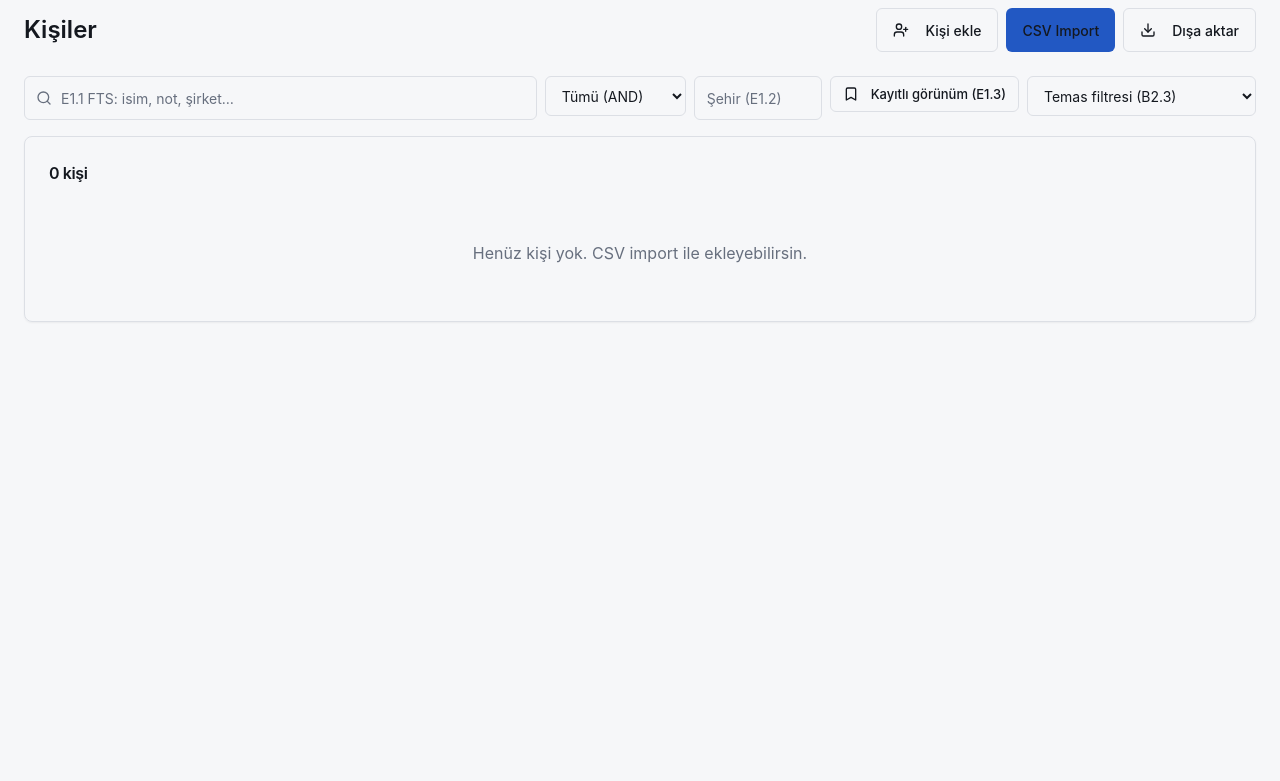
Test: Contacts A1 create form › validates email and phone on create
Expected: the heading "Kişiler" is shown, [24,14,97,46]
Click the button "Kişi ekle" at (937, 30), box [876,8,998,52]
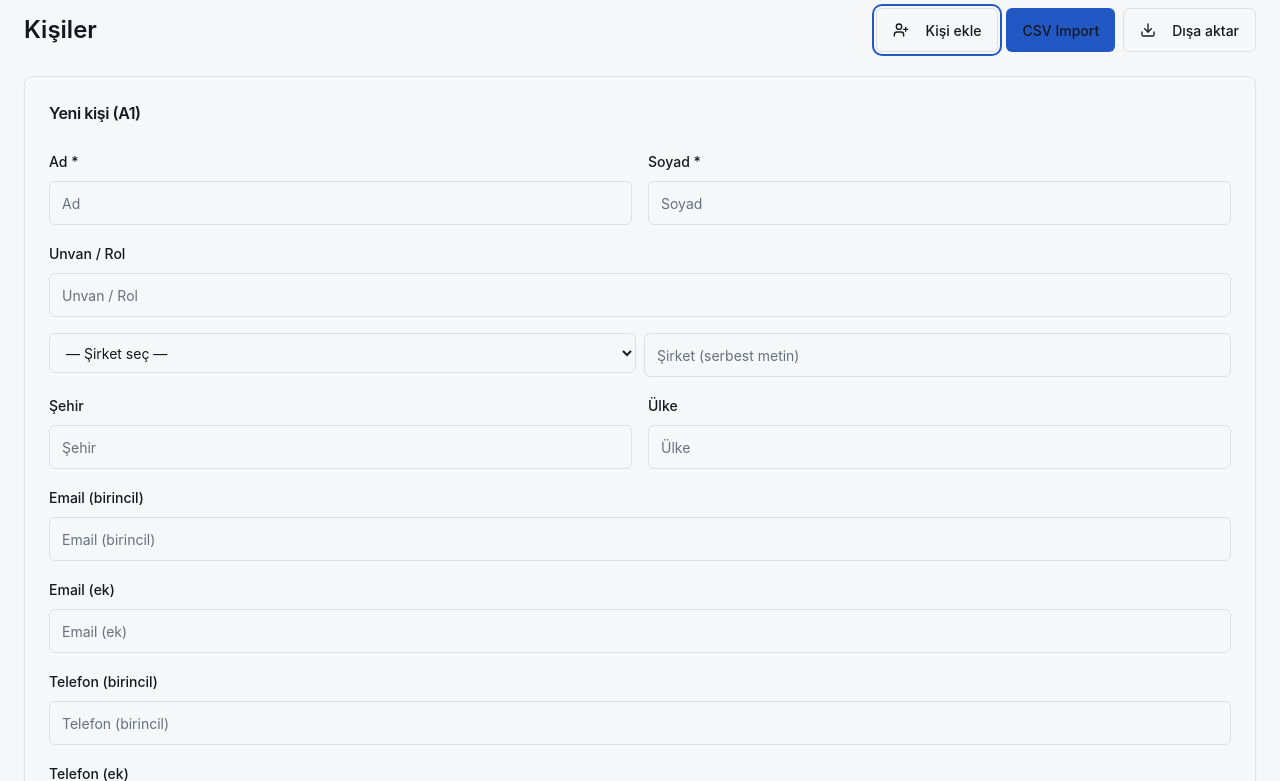
Type "Ali" into the field with placeholder "Ad" at (340, 203), box [49,181,632,225]
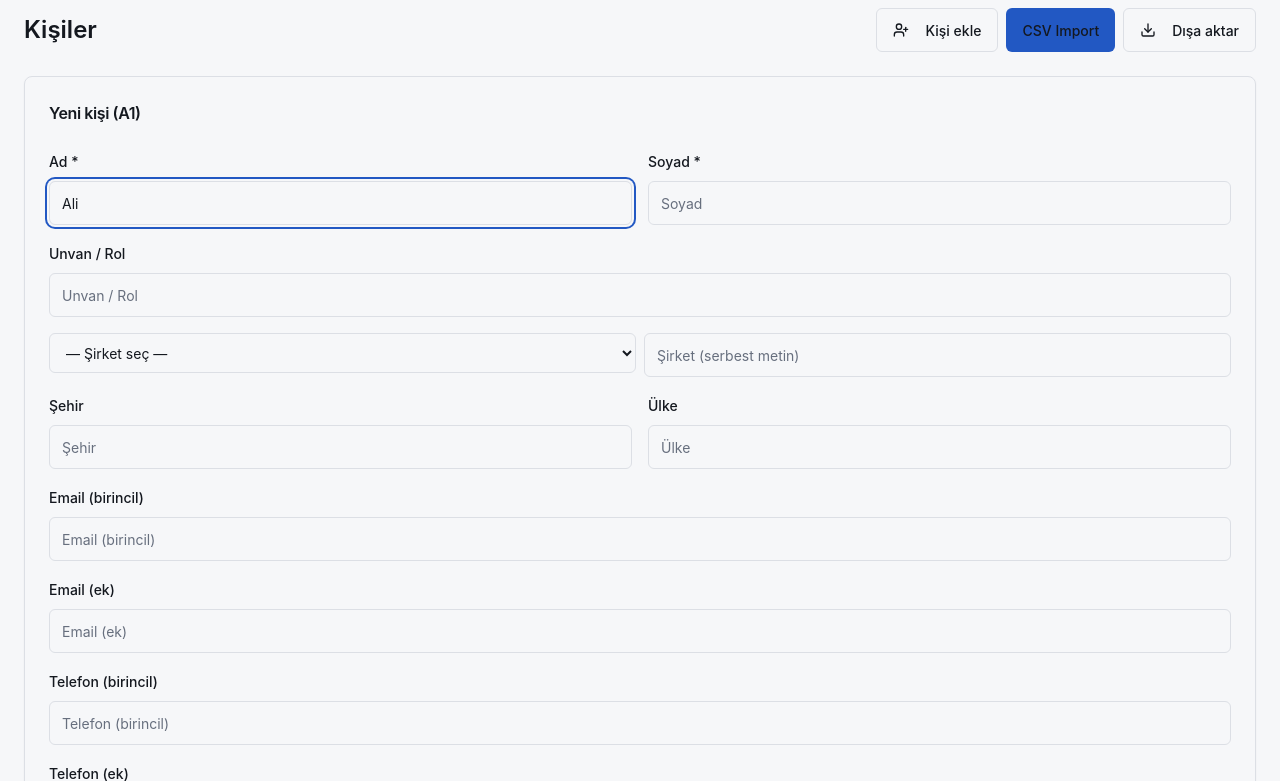
Type "Veli" into the field with placeholder "Soyad" at (940, 203), box [648,181,1231,225]
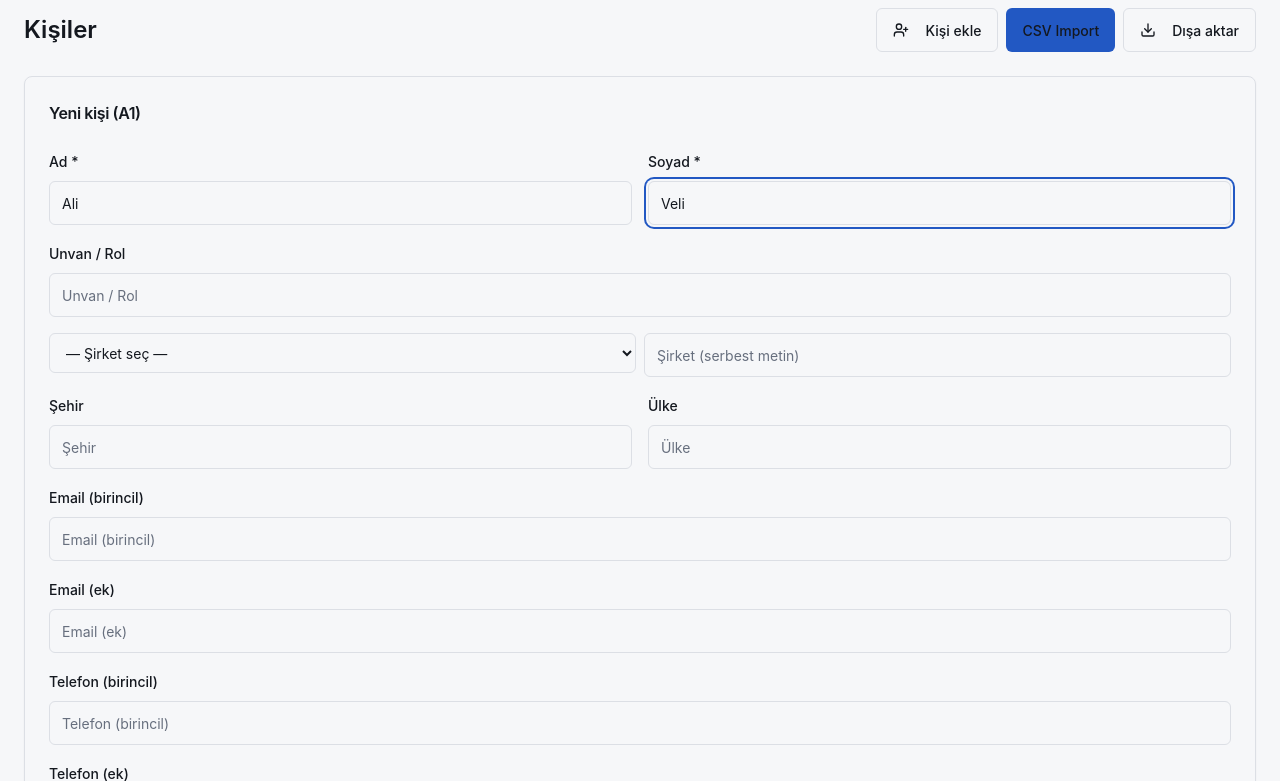
Type "bad" into the field with placeholder "Email (birincil)" at (640, 539), box [49,517,1231,561]
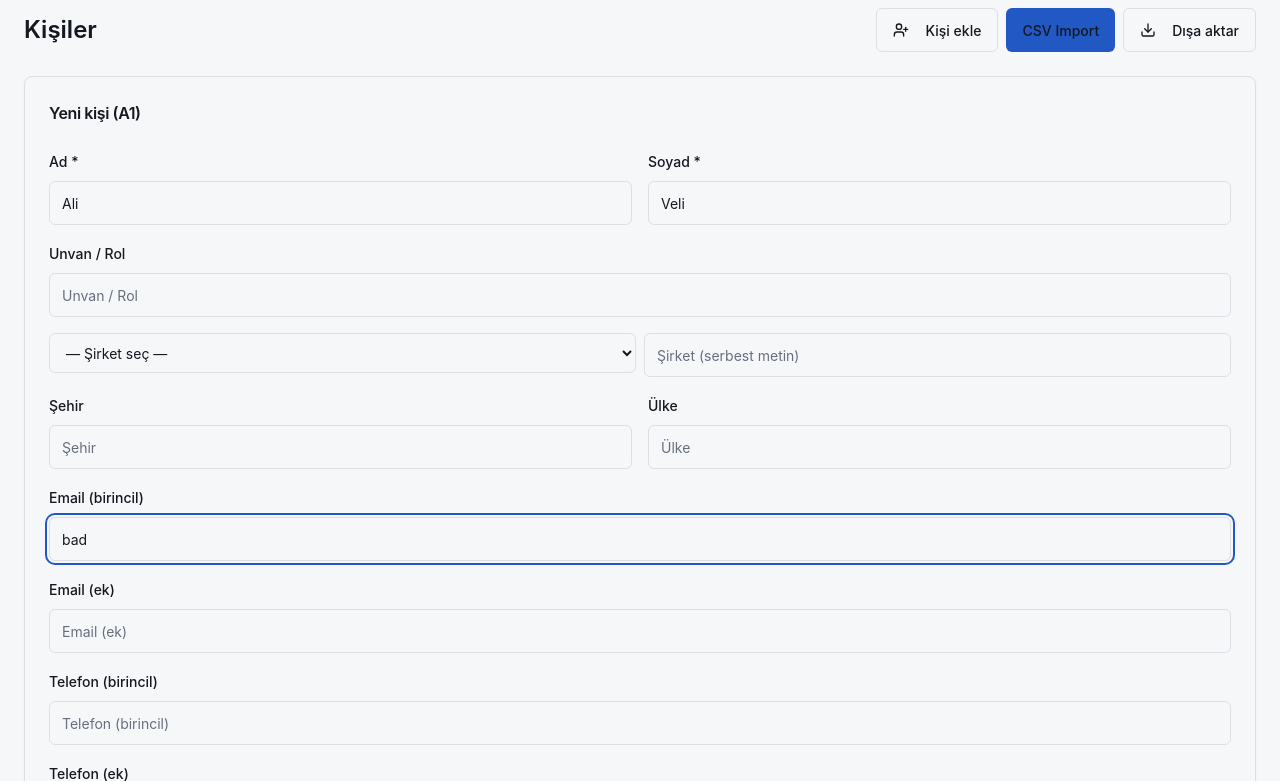
Type "abc" into the field with placeholder "Telefon (birincil)" at (640, 723), box [49,701,1231,745]
(page scrolled)
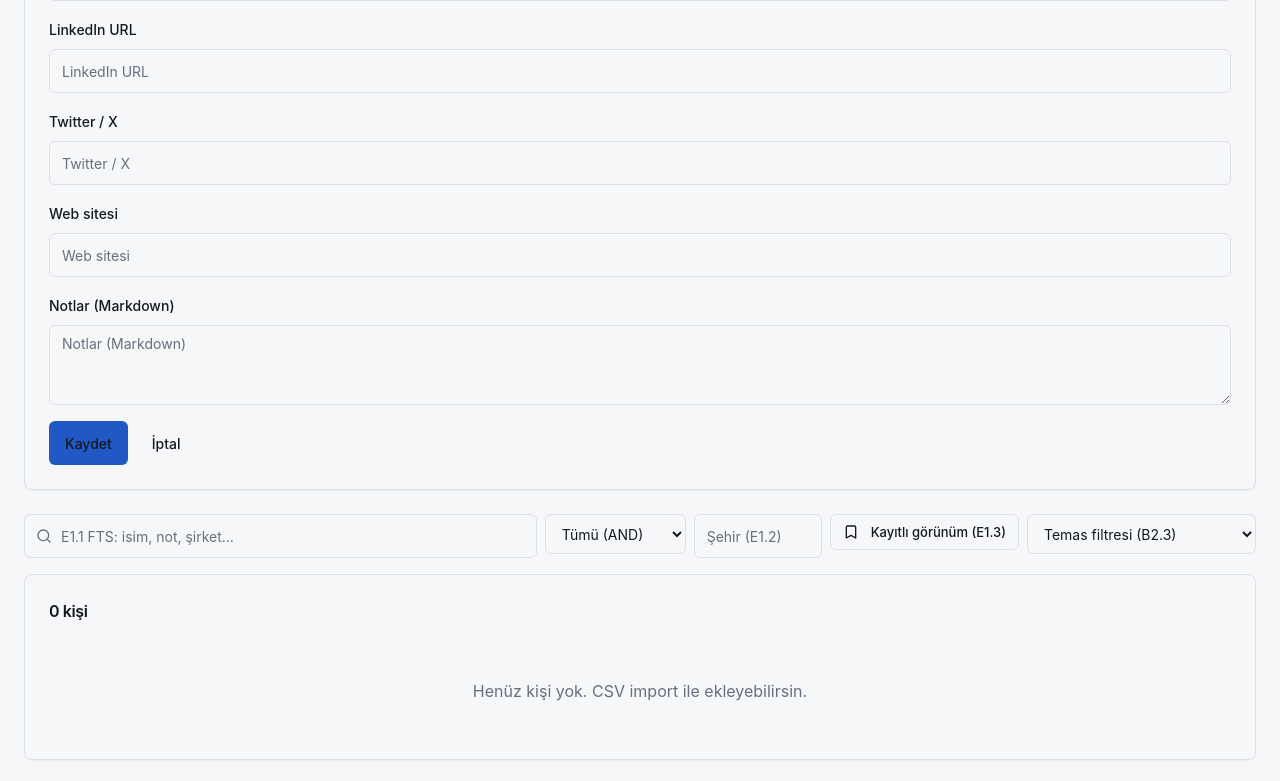
Click the button "Kaydet" at (88, 443), box [49,421,128,465]
(page scrolled)
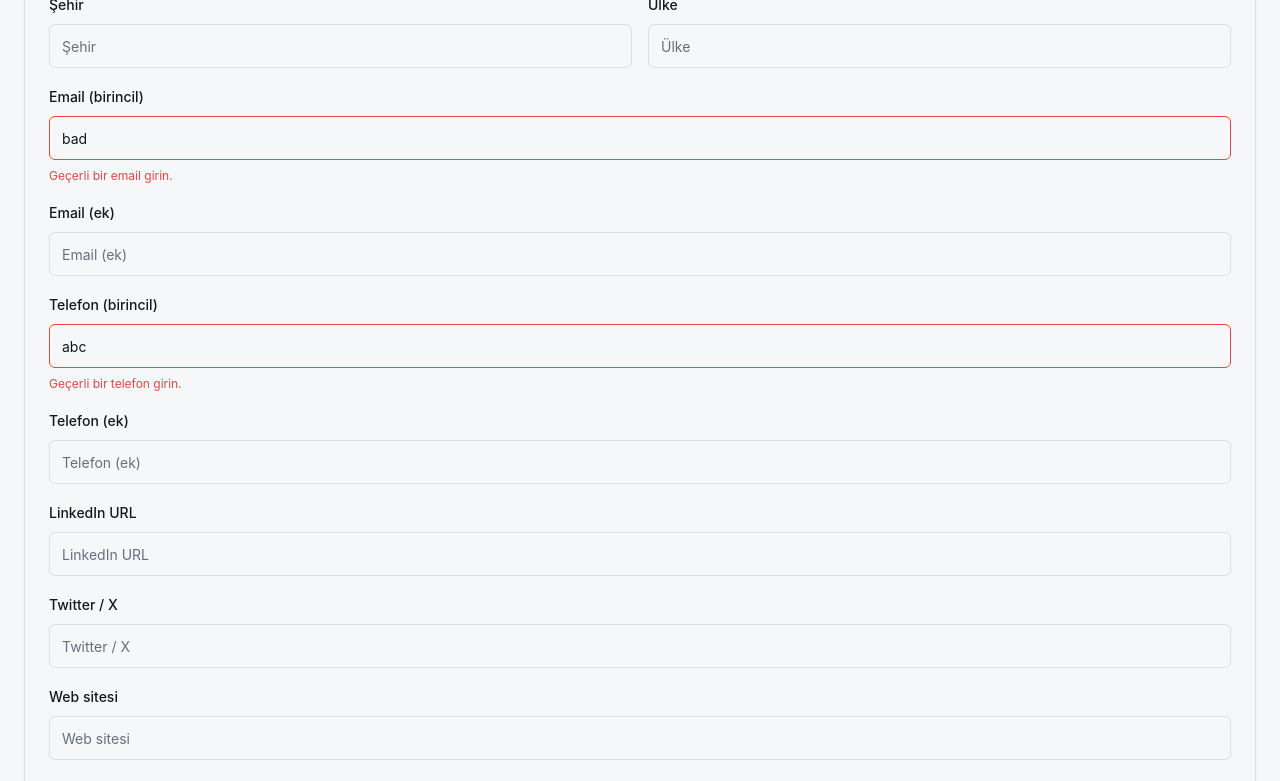
Expected: the text "Geçerli bir email girin." is shown, [49,168,173,183]
Expected: the text "Geçerli bir telefon girin." is shown, [49,376,182,391]
